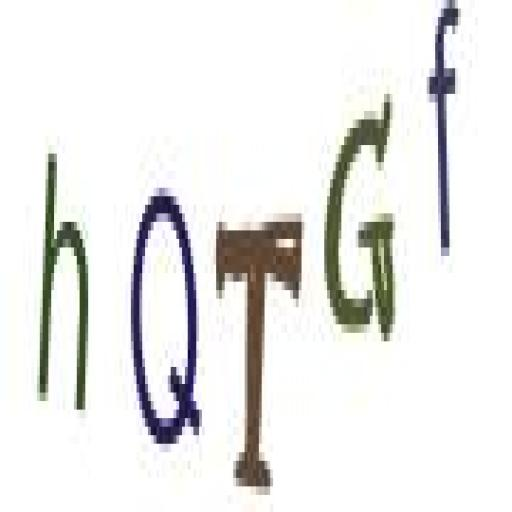G: (320, 79, 409, 351)
Q: (124, 162, 208, 458)
T: (210, 201, 308, 500)
f: (421, 0, 464, 273)
h: (34, 124, 93, 448)
